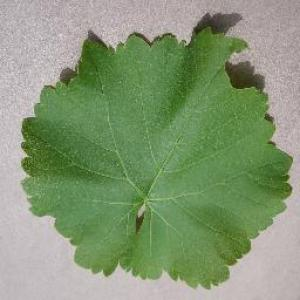Folha: (19, 15, 293, 290)
